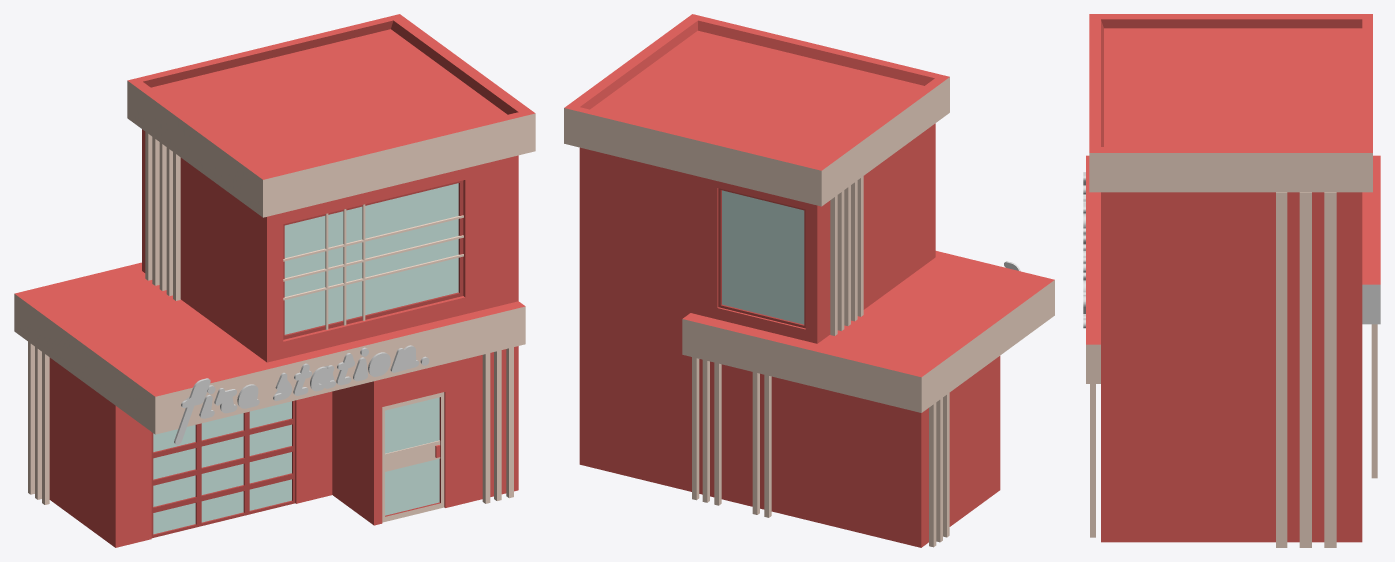
The model's file is fire_station1.fbx.
3 views of the same model, side by side, from view 1: azimuth 30°, elevation 25°; view 2: azimuth 150°, elevation 25°; view 3: azimuth 270°, elevation 25° (orthographic). The views are drawn at different scales.
Parts seen in each view (by area): view 1: fire_station; view 2: fire_station; view 3: fire_station.
Part boxes in pixels (x1,y1,x2,y2): fire_station: (14, 14, 535, 547); fire_station: (564, 14, 1054, 547); fire_station: (1083, 14, 1380, 547).
Bounding box in the file's own units: 815 × 771 × 526.
